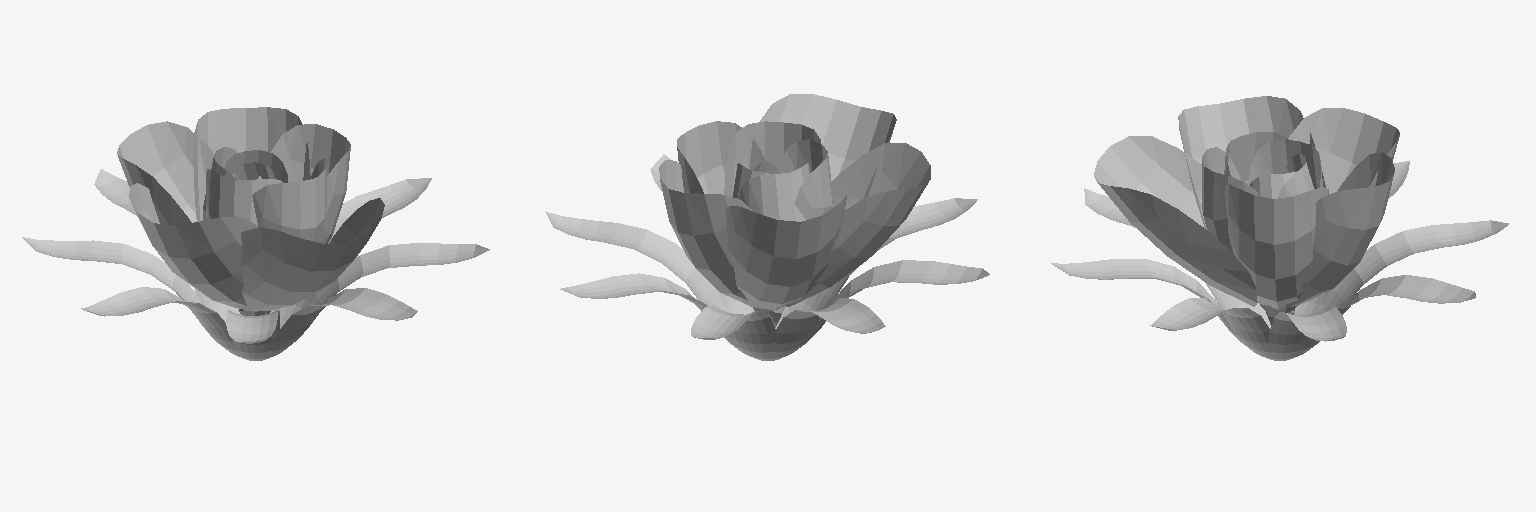
Rendered from FlowerTopModel_03_seq_0028.obj.
3 views of the same model, side by side, from view 1: azimuth 30°, elevation 25°; view 2: azimuth 150°, elevation 25°; view 3: azimuth 270°, elevation 25° (orthographic).
Visible parts, largest first — view 1: FlowerTopModel_03; view 2: FlowerTopModel_03; view 3: FlowerTopModel_03.
Boxes of the visible parts, x1,y1,x2,y2 form: FlowerTopModel_03: [22, 107, 489, 360]; FlowerTopModel_03: [545, 94, 989, 360]; FlowerTopModel_03: [1051, 96, 1508, 360].
Size of the model in its own units: 734 by 360 by 734.